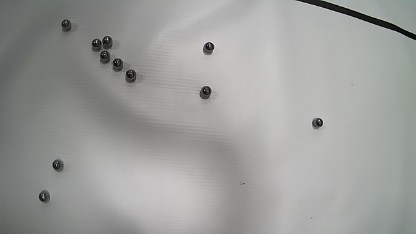ironball: (199, 85, 211, 99), (38, 190, 50, 203), (52, 158, 63, 172), (102, 36, 113, 49), (91, 38, 102, 51), (112, 58, 123, 71), (99, 50, 110, 63), (125, 69, 136, 82), (203, 42, 214, 54), (312, 117, 323, 128), (61, 19, 71, 31)
